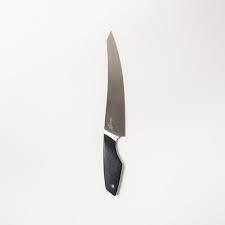Knife: (102, 30, 126, 195)
